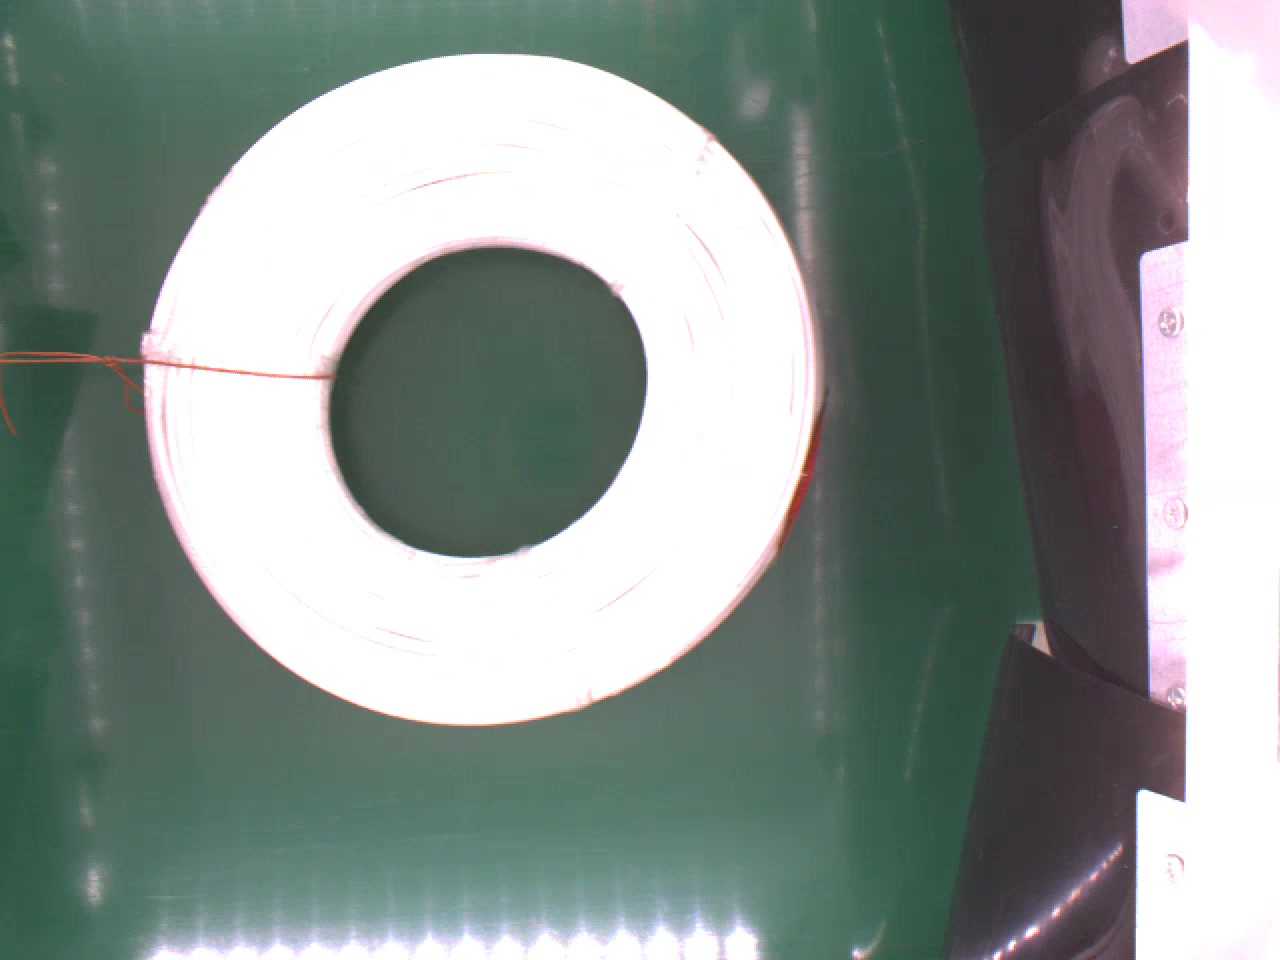white: (139, 54, 821, 726)
